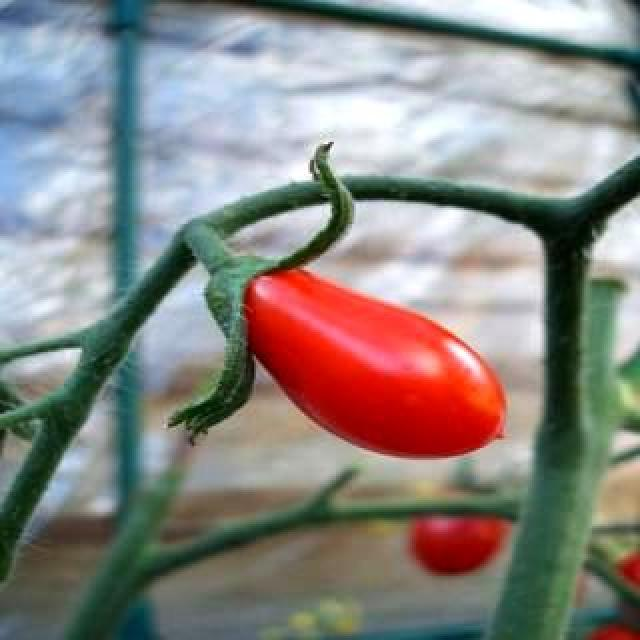Fresh_Tomato: (194, 246, 520, 474)
